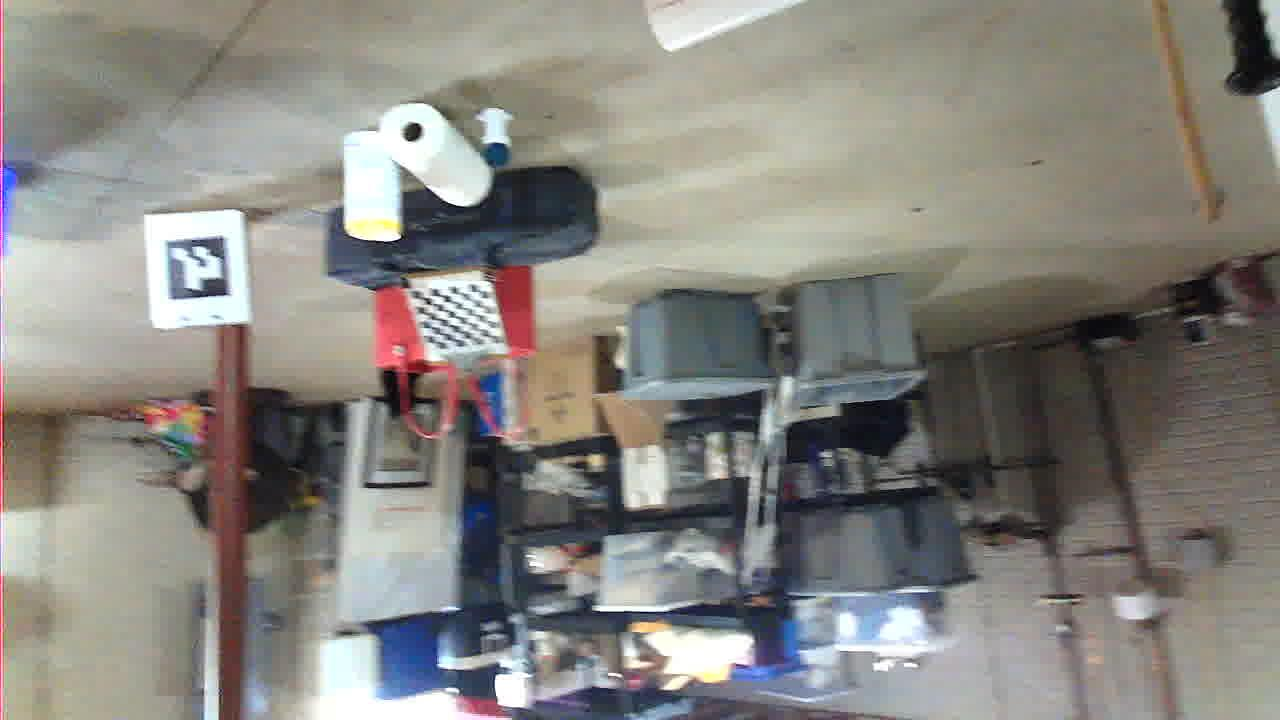coral: (468, 667, 634, 720)
